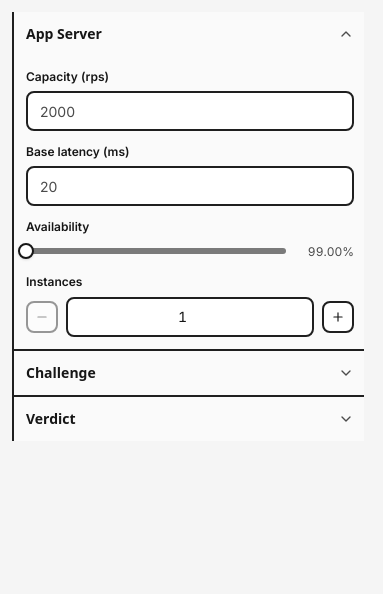
Test: FlowInspector › só uma seção fica aberta por vez
The width and height of the screenshot is (383, 594).
Click the button "Challenge" at (61, 372), box [14,351,366,395]
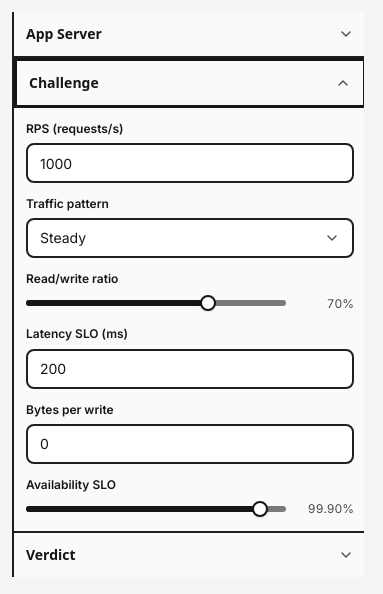
Check: the button "App Server" is collapsed, box [14,12,364,56]
Check: the button "Challenge" is expanded, box [14,58,364,108]
